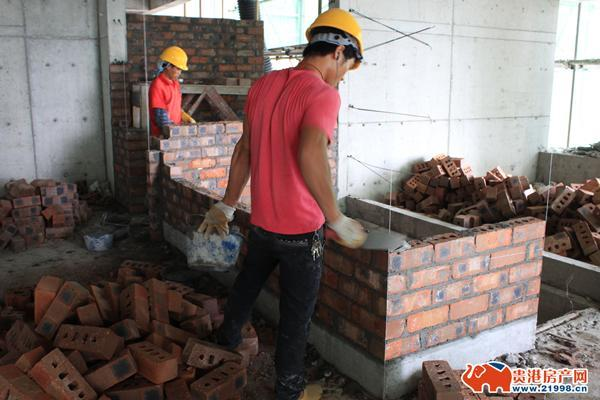helmet: (305, 9, 367, 66), (160, 46, 190, 72)
